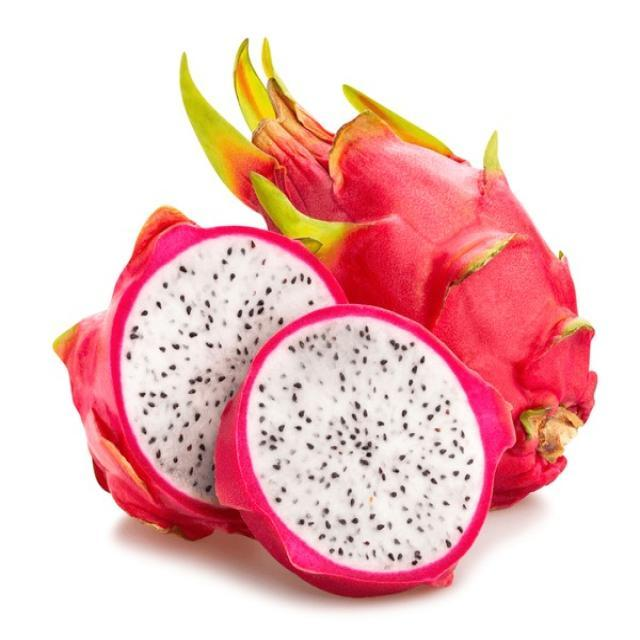dragon-fruit: (265, 131, 593, 511), (68, 224, 351, 526), (233, 303, 496, 600)
